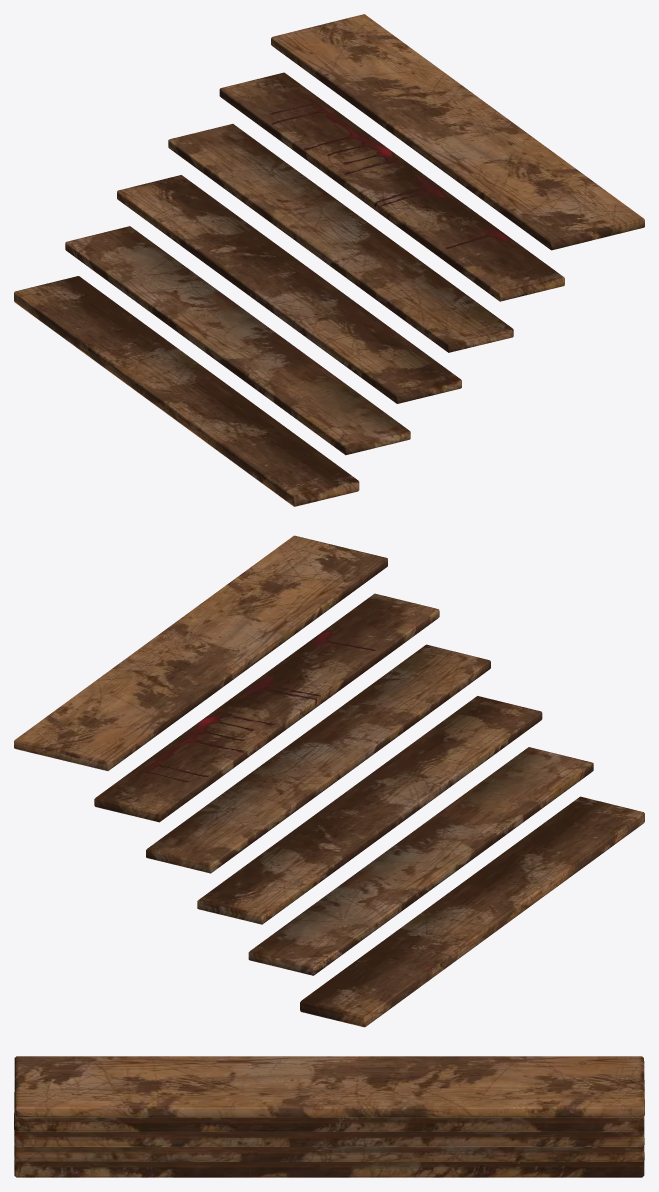
File: t_tablas_6.glb
3 views of the same model, one above another, from view 1: azimuth 30°, elevation 25°; view 2: azimuth 150°, elevation 25°; view 3: azimuth 270°, elevation 25° (orthographic). The views are drawn at different scales.
Parts seen in each view (by area): view 1: defaultMaterial; view 2: defaultMaterial; view 3: defaultMaterial.
Part boxes in pixels (left/top/right/bottom): defaultMaterial: left=14, top=14, right=644, bottom=506; defaultMaterial: left=14, top=535, right=644, bottom=1027; defaultMaterial: left=14, top=1056, right=644, bottom=1177.
Size of the model in its own units: 1.3 by 0.7153 by 1.8.
Materials: 1 (1 with a texture image).
